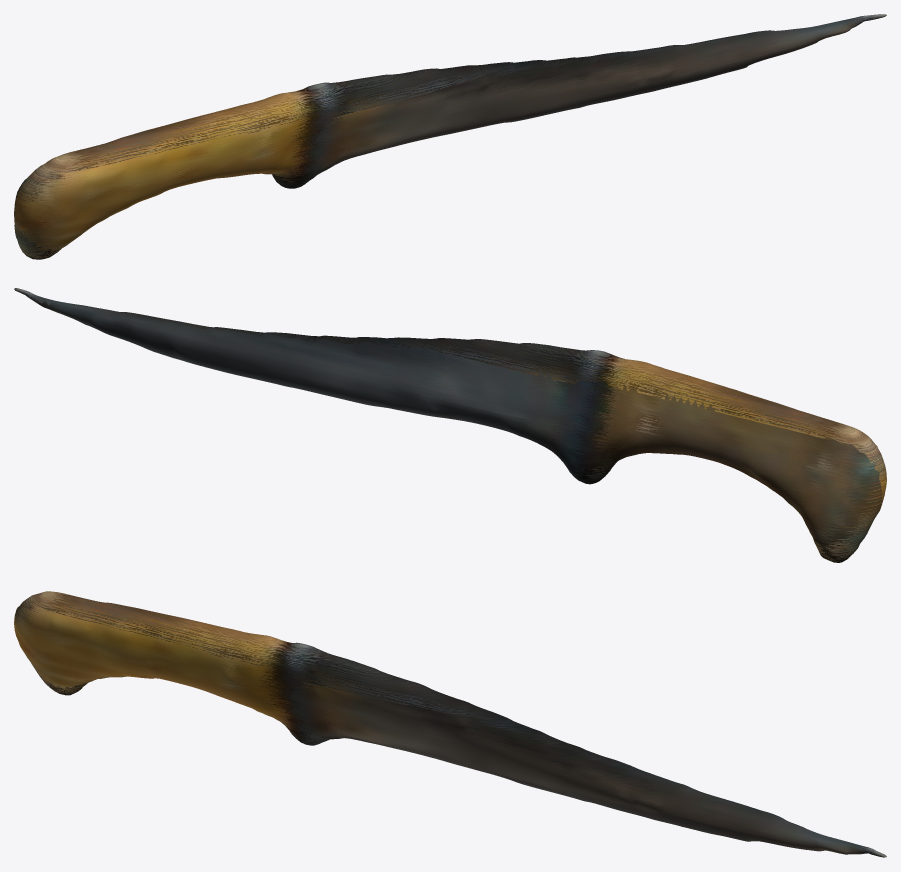
Rendered from kfl-2177.glb.
The picture shows the model from 3 angles, top to bottom: view 1: azimuth 30°, elevation 25°; view 2: azimuth 150°, elevation 25°; view 3: azimuth 330°, elevation 25°; orthographic projection.
Visible parts, largest first — view 1: geometry_0; view 2: geometry_0; view 3: geometry_0.
Part boxes in pixels (x1=…): geometry_0: x1=14, y1=14, x2=886, y2=259; geometry_0: x1=14, y1=288, x2=886, y2=562; geometry_0: x1=14, y1=591, x2=886, y2=857.
Size of the model in its own units: 0.9895 by 0.1393 by 0.0827.
1 material, 1 textured.
